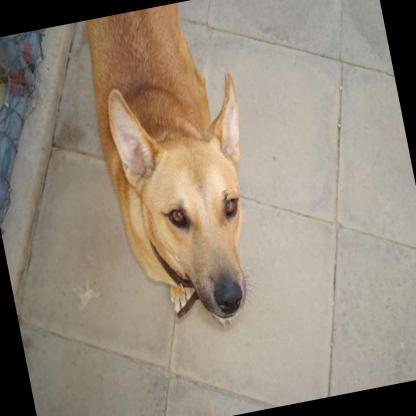dingo: (73, 0, 279, 338)
